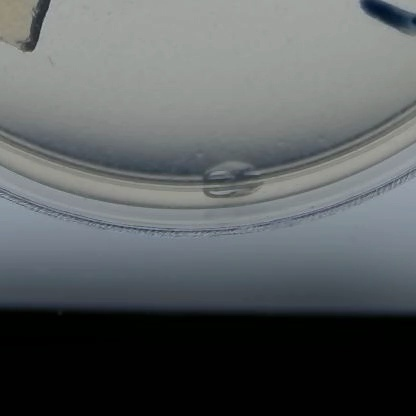worm: (39, 56, 59, 69)
